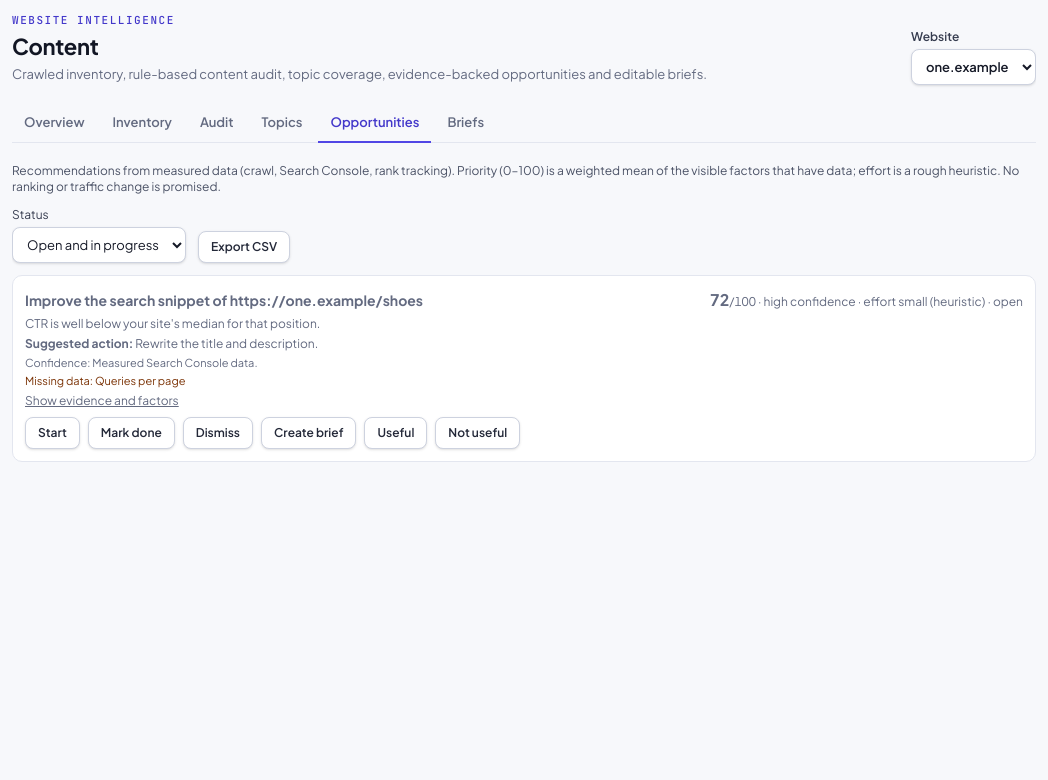
Test: Opportunities › shows priority factors (including unavailable ones), missing data and review actions
Expected: the list item "Improve the search snippet of https://one.example/shoes" shows "72/100 · high confidence · effort small (heuristic)", [12,275,1036,462]
Expected: the list item "Improve the search snippet of https://one.example/shoes" shows "Missing data: Queries per page", [12,275,1036,462]
What coordinates should you click on to do the following:
click the button "Show evidence and factors"
I would click on:
 (102, 401)
Its box is [25,393,179,409].
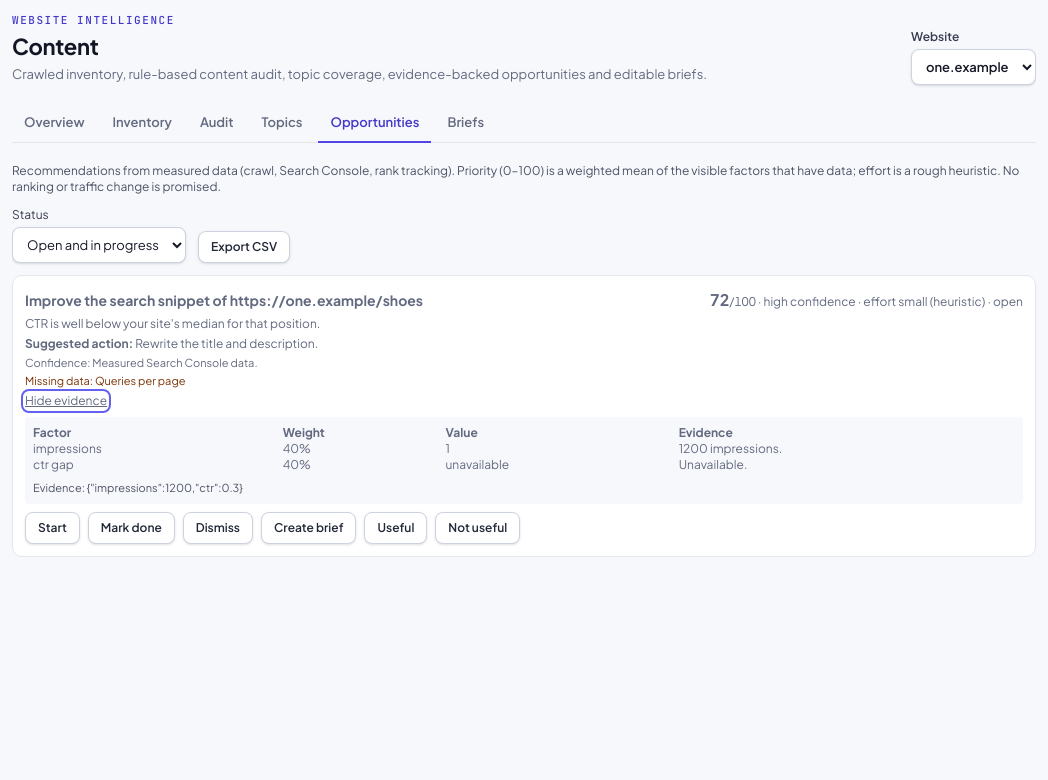
What coordinates should you click on to do the following:
click the button "Mark done"
I would click on:
 (131, 528)
Its box is [88,512,175,544].
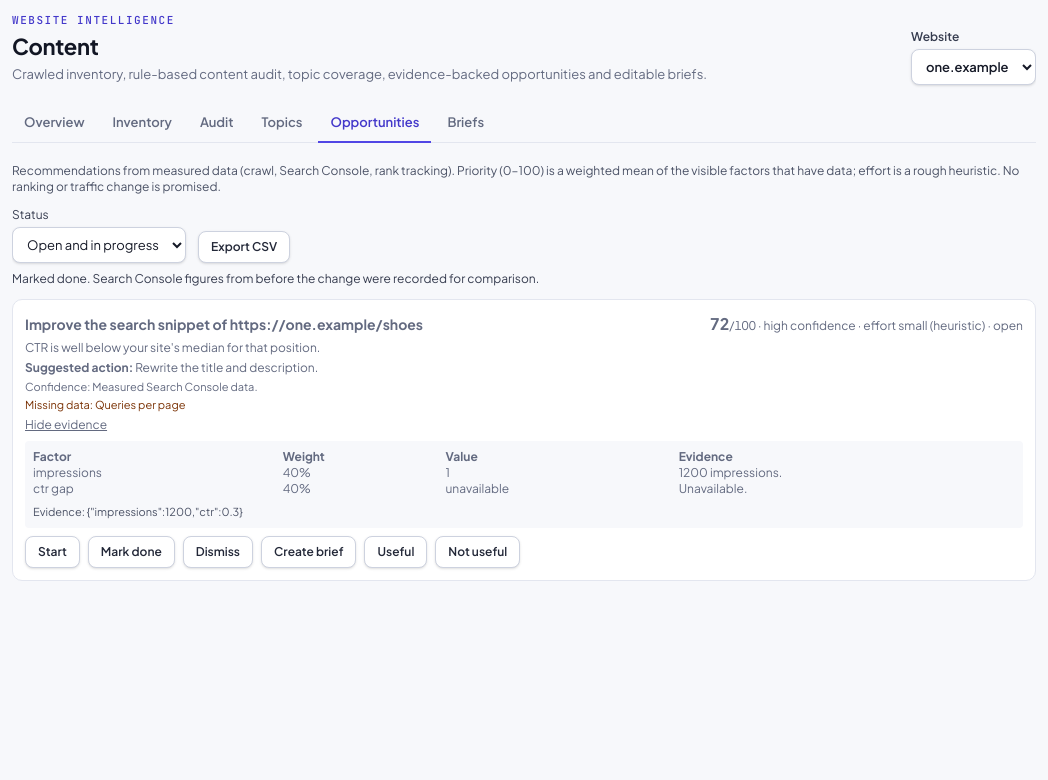
Expected: the text "figures from before the change were recorded" is shown, [12,271,539,286]
